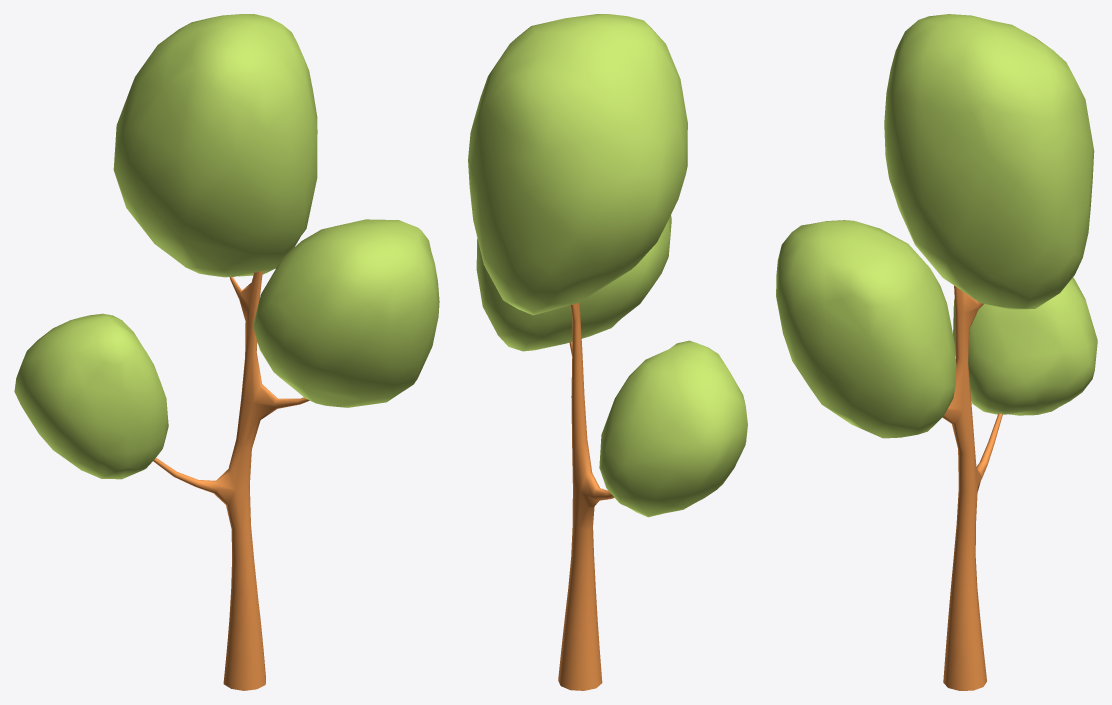
File: Tree_H.fbx
3 renders of one model, left to right at view 1: azimuth 30°, elevation 25°; view 2: azimuth 150°, elevation 25°; view 3: azimuth 270°, elevation 25°, orthographic.
Parts seen in each view (by area): view 1: Oak_Tree_m_07; view 2: Oak_Tree_m_07; view 3: Oak_Tree_m_07.
Boxes of the visible parts, left/top/right/bottom form: Oak_Tree_m_07: left=14, top=14, right=439, bottom=690; Oak_Tree_m_07: left=468, top=14, right=747, bottom=690; Oak_Tree_m_07: left=776, top=14, right=1097, bottom=690.
Bounding box in the file's own units: 437 × 850 × 379.
